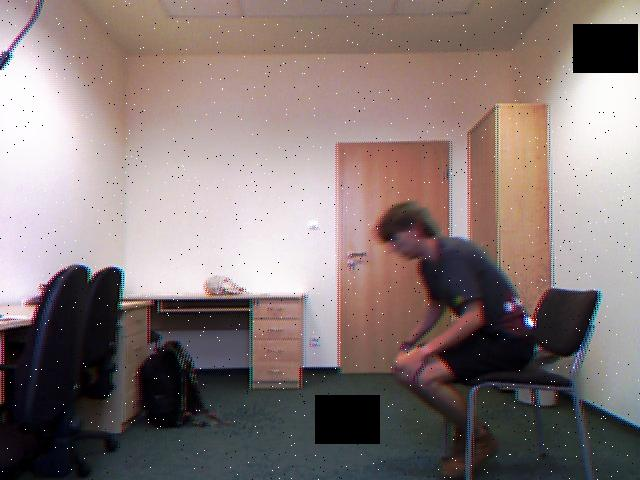near-fall: (367, 195, 549, 480)
